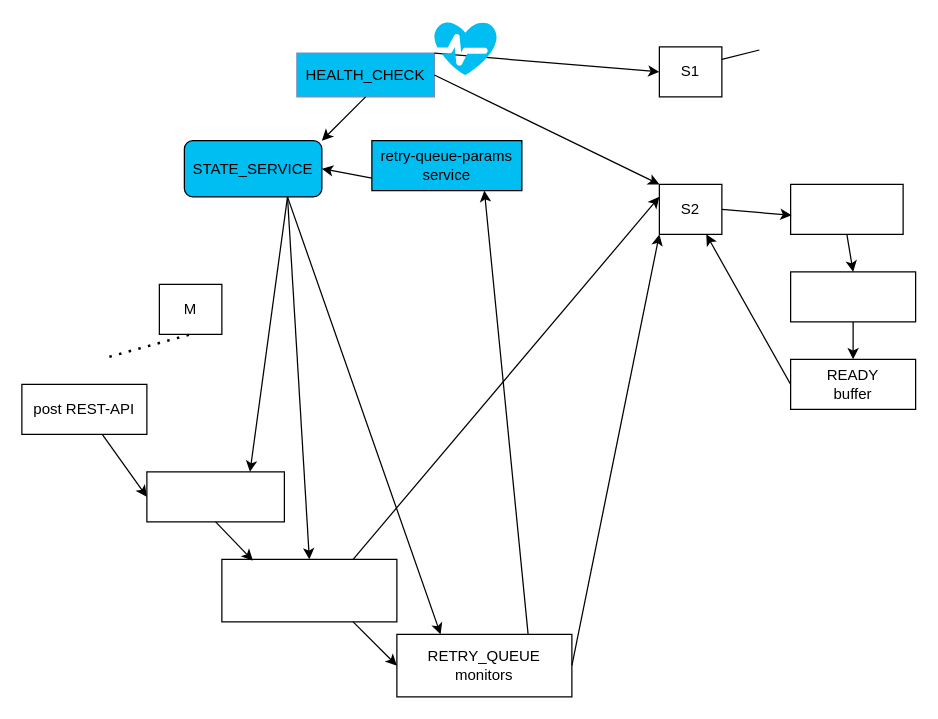
Image size: 938x719. Some labels were removed from this diagram. The shapes that lost their labels are listed below. From the top down, each one's box as (x1, y1, x2, y2) in pixels, then its label:
(789, 183, 903, 234): STREAM buffer
(789, 271, 916, 322): DEDUPLICATED buffer
(146, 471, 284, 522): process_service
(221, 558, 397, 622): send_service + retry to achieve Write Concern
